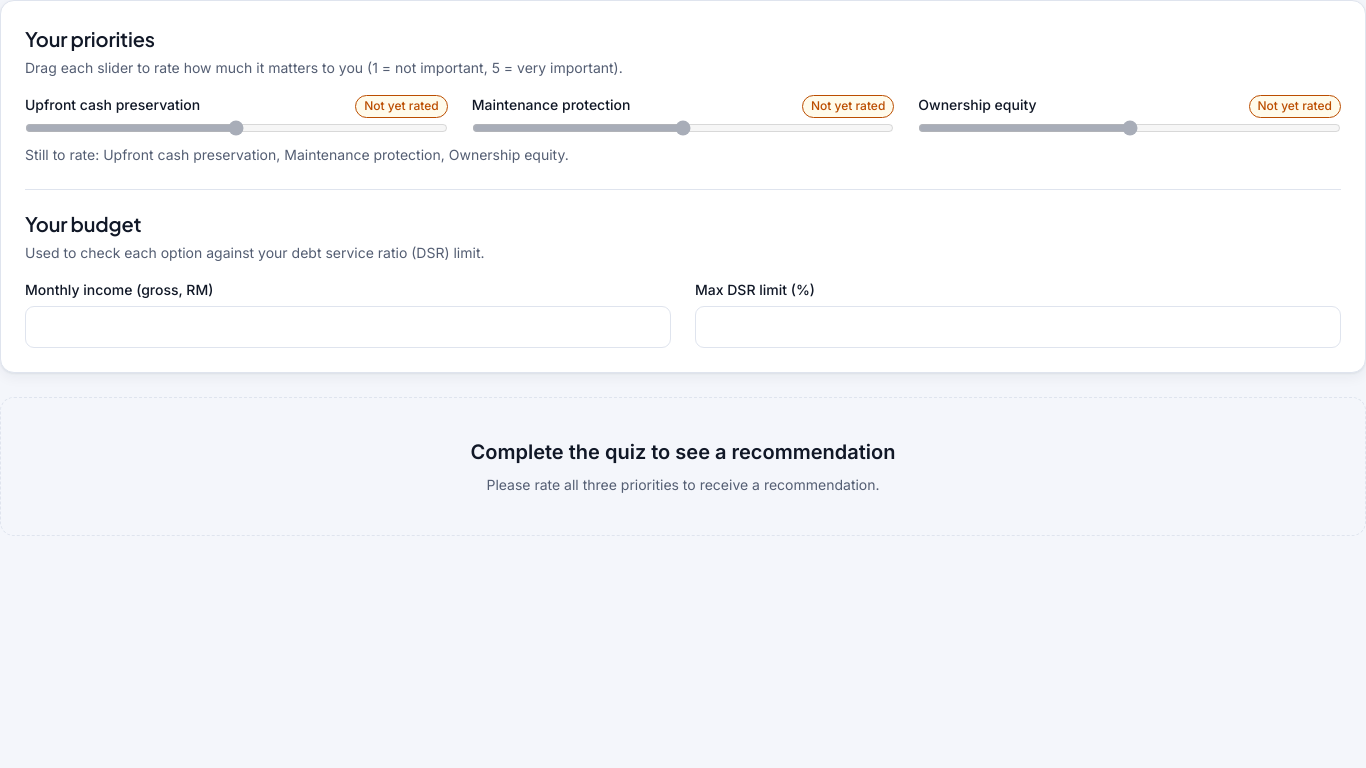
Scenario: RecommendationPanel › surfaces a DRF field error for monthly_income, not the generic fallback
Set the slider labelled "Upfront cash preservation" to "5". click: (440, 128)
box: [25,124,448,132]
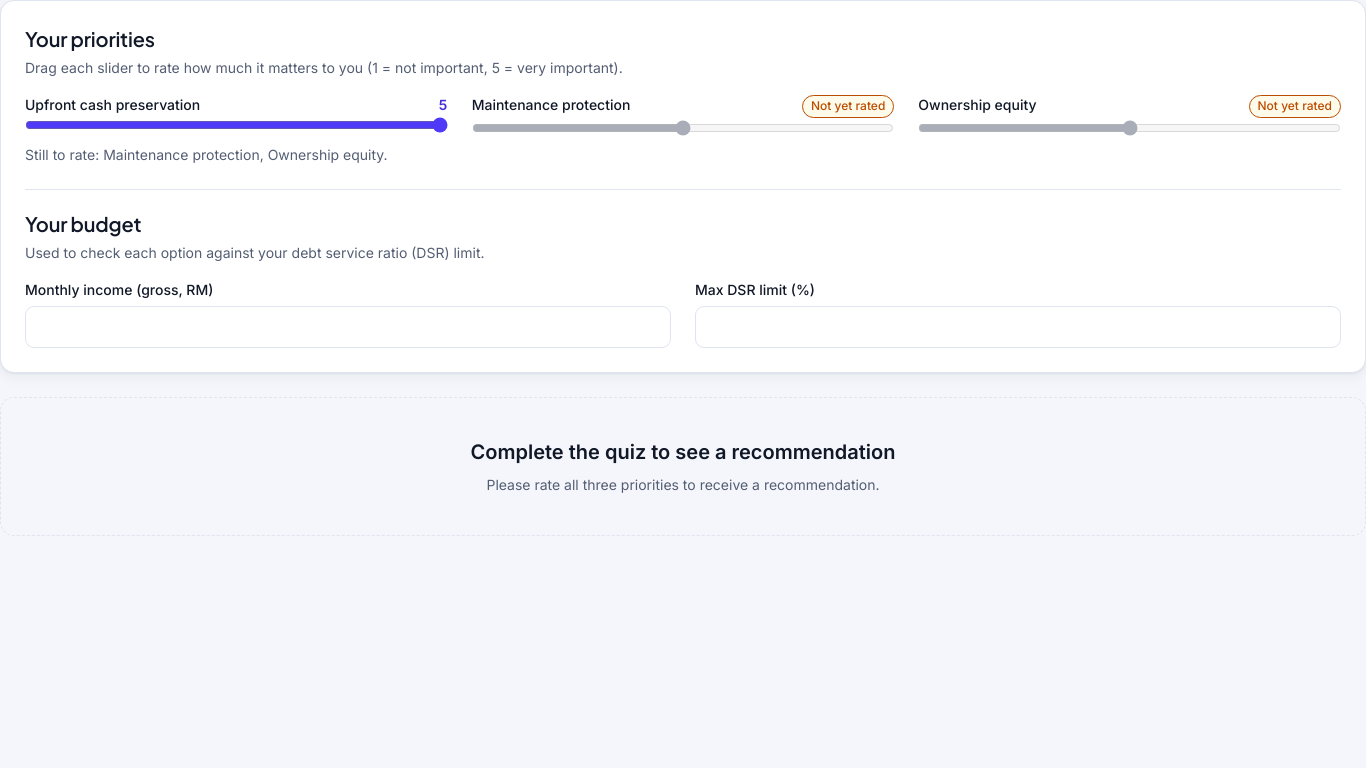
Set the slider labelled "Maintenance protection" to "4". click: (785, 128)
box: [472,124,894,132]
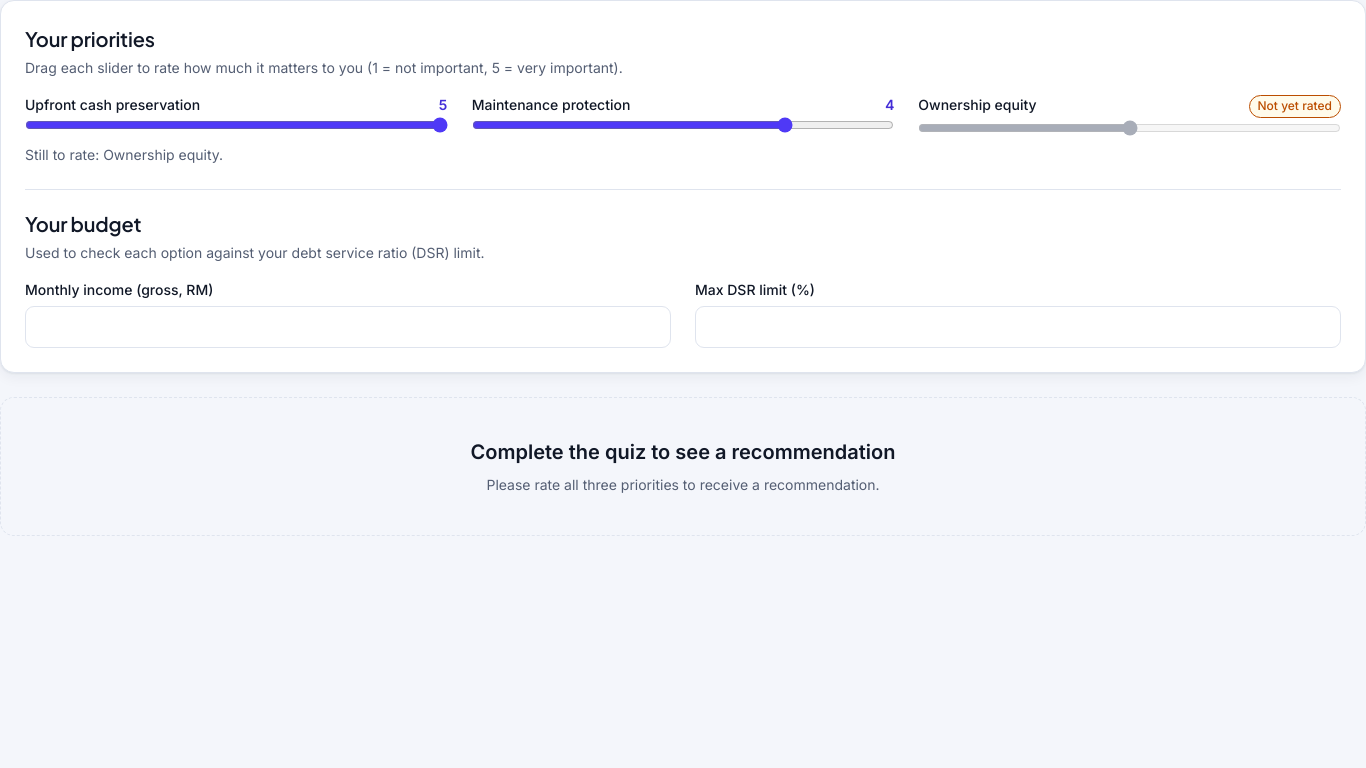
Set the slider labelled "Ownership equity" to "2". click: (1028, 128)
box: [918,124,1341,132]
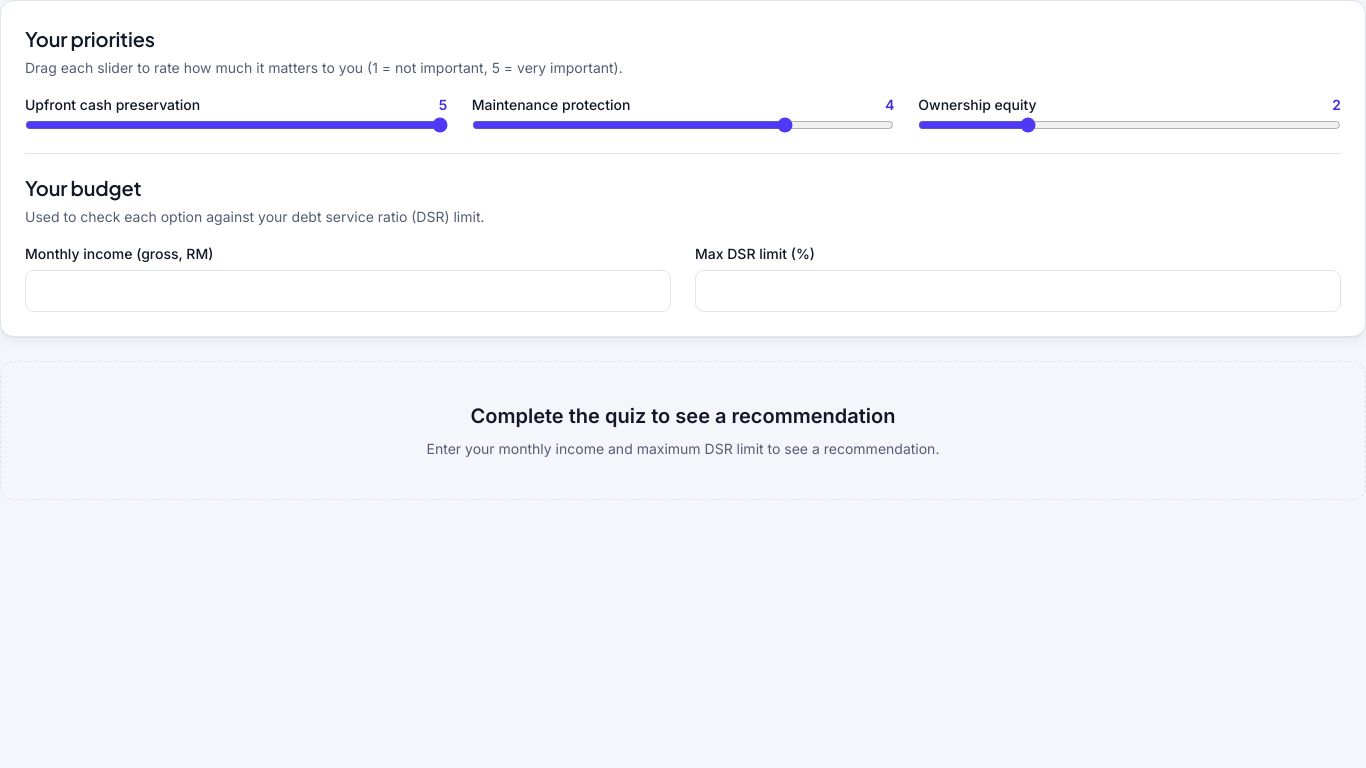
Type "-100" into the number field labelled "Monthly income (gross, RM)". click: (348, 291)
box: [25,270,671,312]
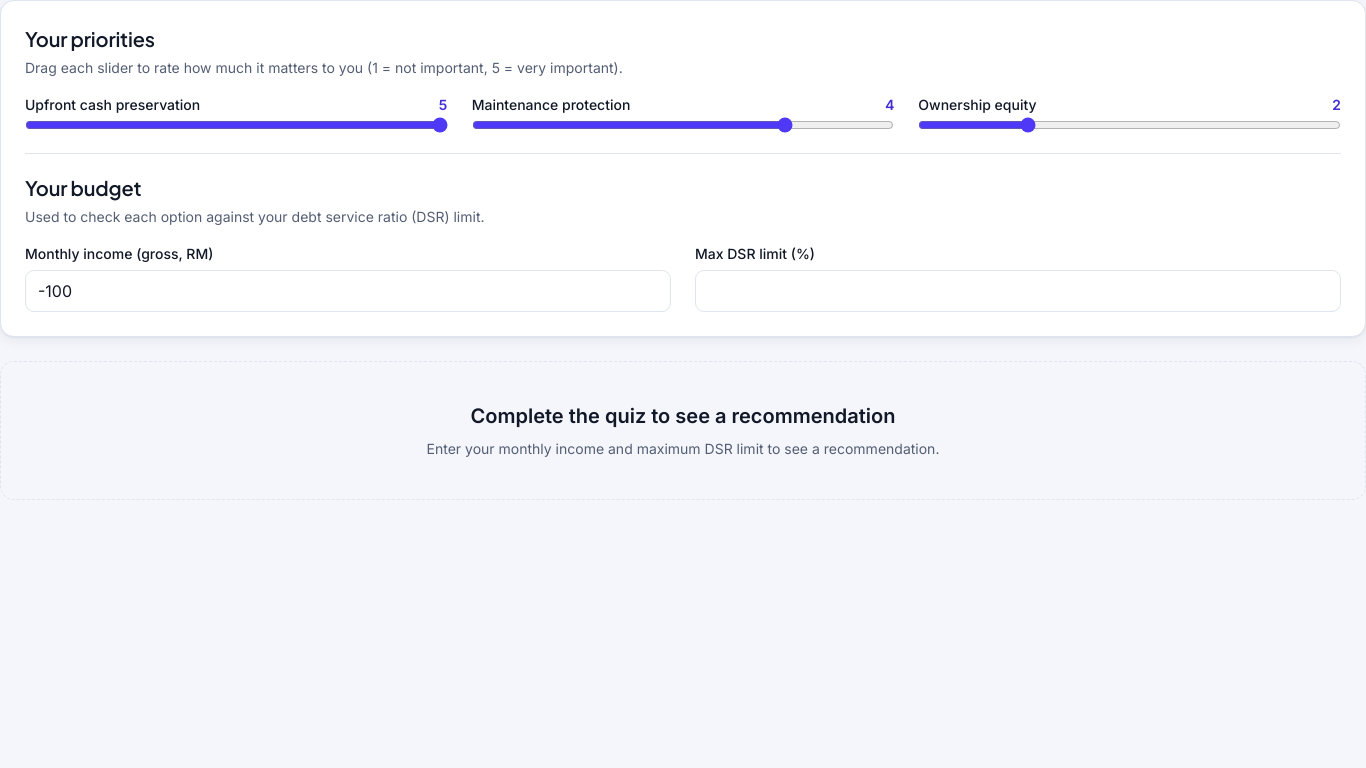
Type "60" into the number field labelled "Max DSR limit (%)". click: (1018, 291)
box: [695,270,1341,312]
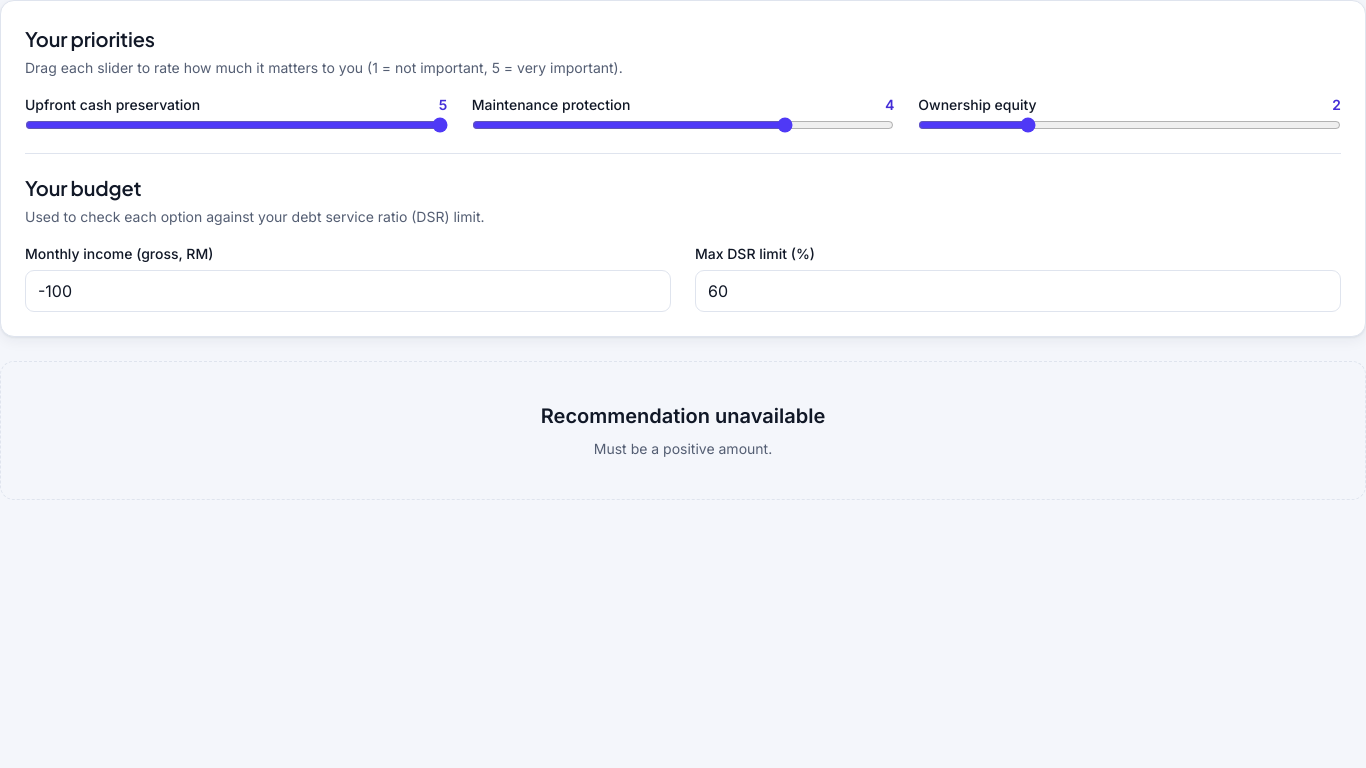
Expected: the text "Must be a positive amount." is shown, [594,438,772,459]
